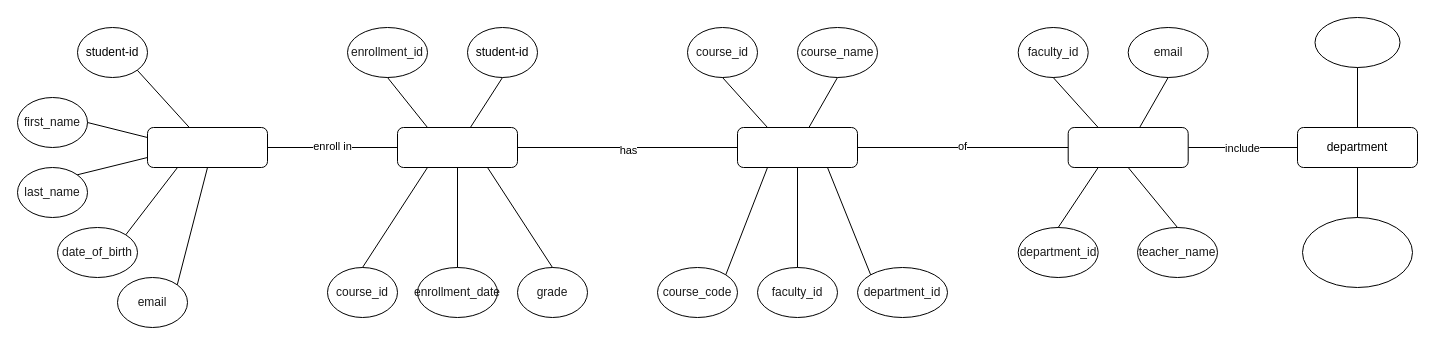
The diagram is 1435 pixels wide and 345 high, and some of its shapes have lost their labels. Each missing label, with the centre of its shape:
courses: point 797,147
d epartment_id: point 1357,42
departm ent_name: point 1357,252
enrollments: point 457,147
faculty: point 1127,147
students: point 207,147
